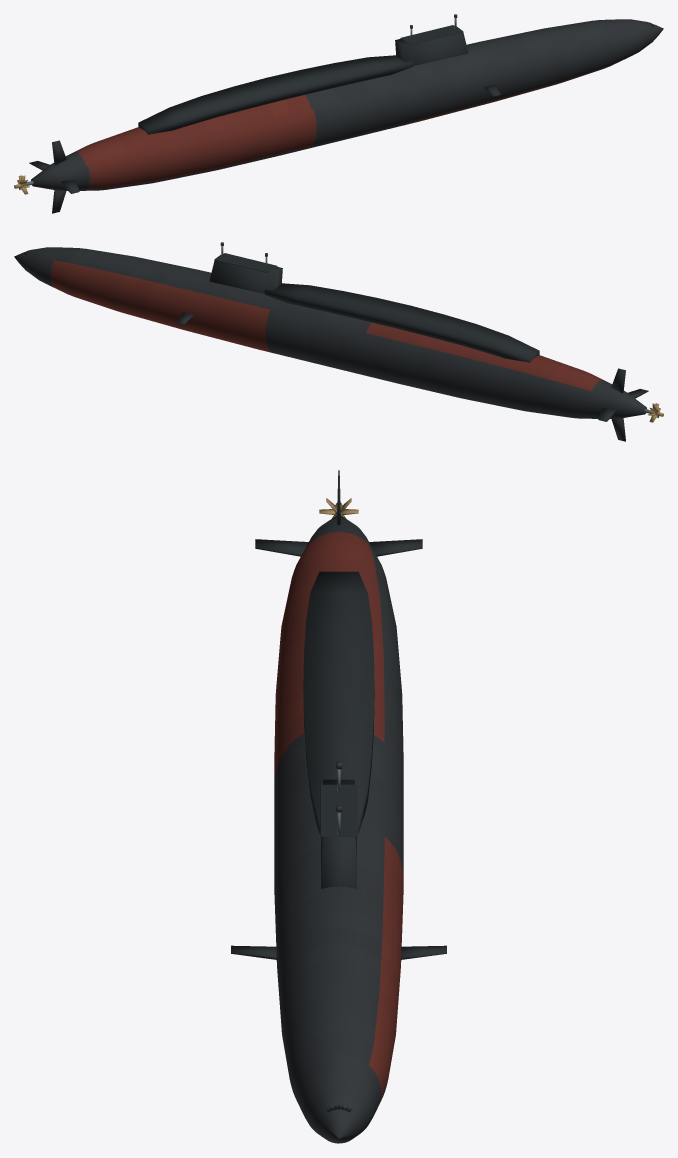
Rendered from RU_SSBN_Yankee_LOD2.fbx.
The picture shows the model from 3 angles, top to bottom: view 1: azimuth 30°, elevation 25°; view 2: azimuth 150°, elevation 25°; view 3: azimuth 270°, elevation 25°; orthographic projection. The views are drawn at different scales.
Visible parts, largest first — view 1: RU_SSBN_Yankee_LOD2; view 2: RU_SSBN_Yankee_LOD2; view 3: RU_SSBN_Yankee_LOD2.
Part boxes in pixels (box(x1,y1,x2,y2)): RU_SSBN_Yankee_LOD2: box(14, 14, 663, 213); RU_SSBN_Yankee_LOD2: box(14, 242, 663, 441); RU_SSBN_Yankee_LOD2: box(231, 470, 446, 1143).
Bounding box in the file's own units: 136 × 19.55 × 20.02.
6 materials, 1 textured.
